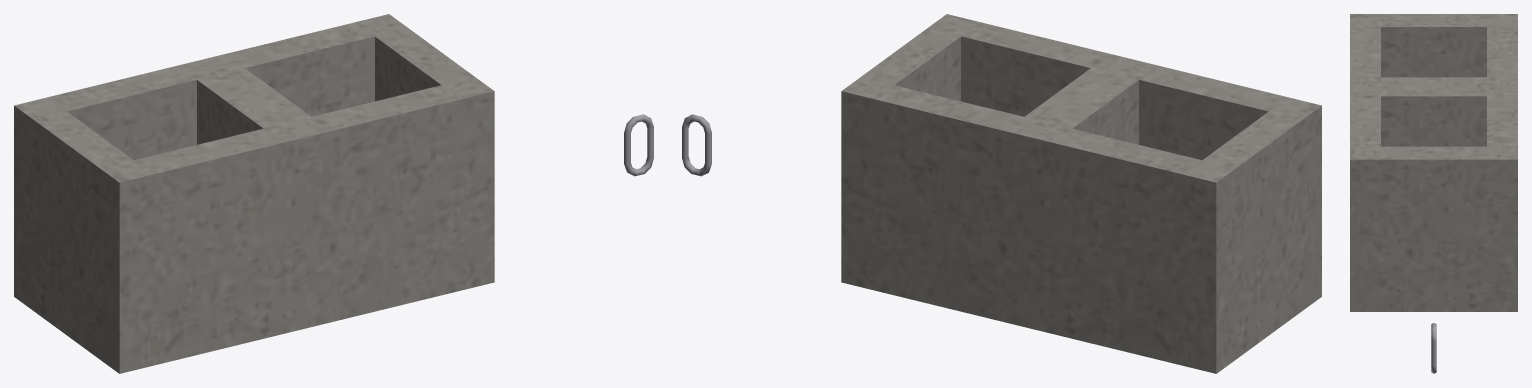
File: props.c509eb59.glb
The picture shows the model from 3 angles, left to right: view 1: azimuth 30°, elevation 25°; view 2: azimuth 150°, elevation 25°; view 3: azimuth 270°, elevation 25°; orthographic projection. The views are drawn at different scales.
Parts seen in each view (by area): view 1: cinderblock, chain_link; view 2: cinderblock, chain_link; view 3: cinderblock, chain_link.
Part boxes in pixels (<box>): cinderblock: <box>14,14,494,373</box>; chain_link: <box>624,114,653,176</box>; cinderblock: <box>841,14,1321,373</box>; chain_link: <box>682,114,711,176</box>; cinderblock: <box>1350,14,1517,311</box>; chain_link: <box>1431,323,1436,373</box>.
Size of the model in its own units: 0.6105 by 0.19 by 0.19.
2 materials, 1 textured.
